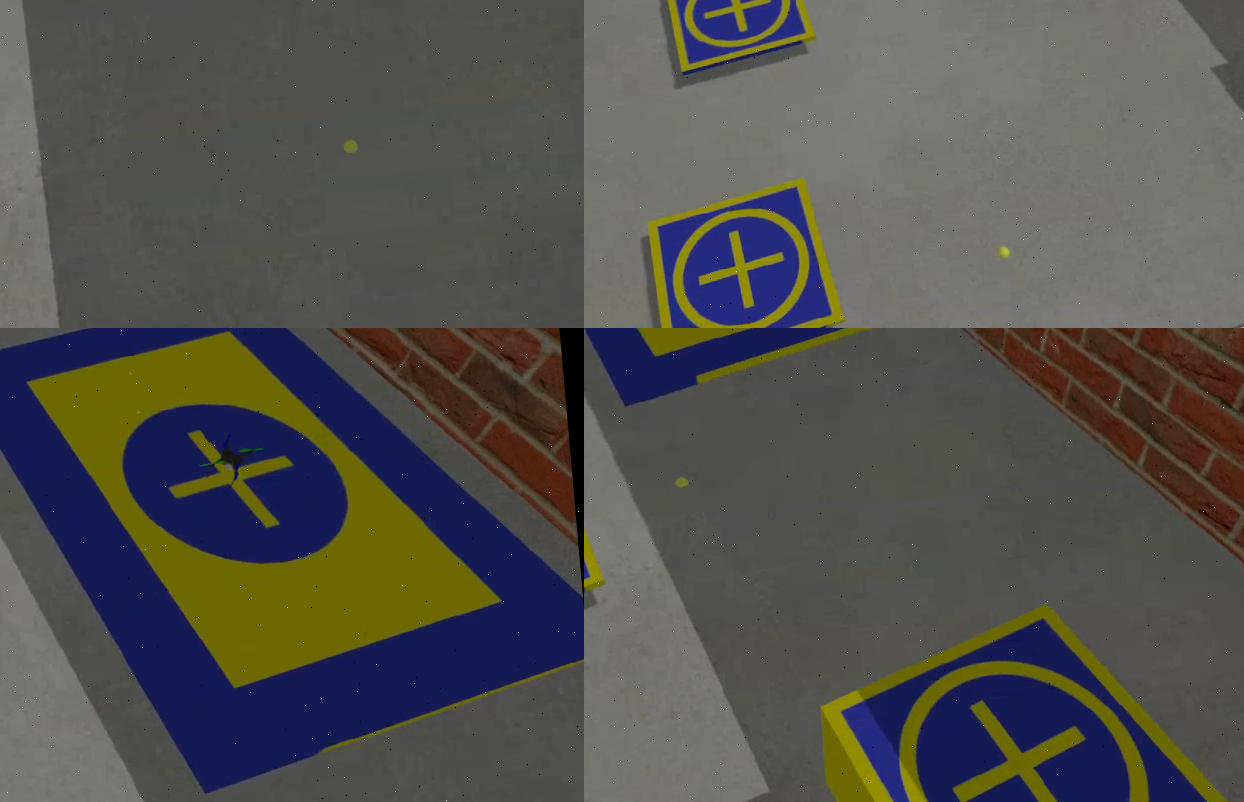large_base: (1, 329, 585, 802), (585, 329, 905, 410)
small_base: (814, 583, 1244, 802), (642, 177, 845, 329), (662, 1, 820, 77)
